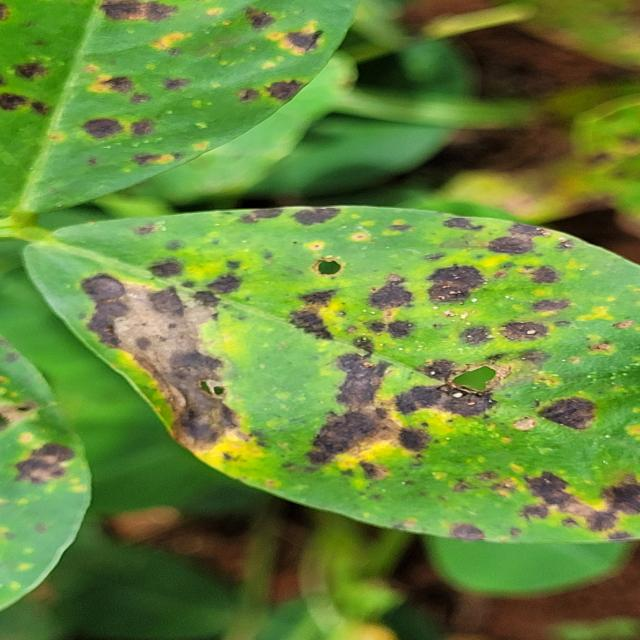Ground nut_tikka leaf spot: (23, 200, 640, 539)
